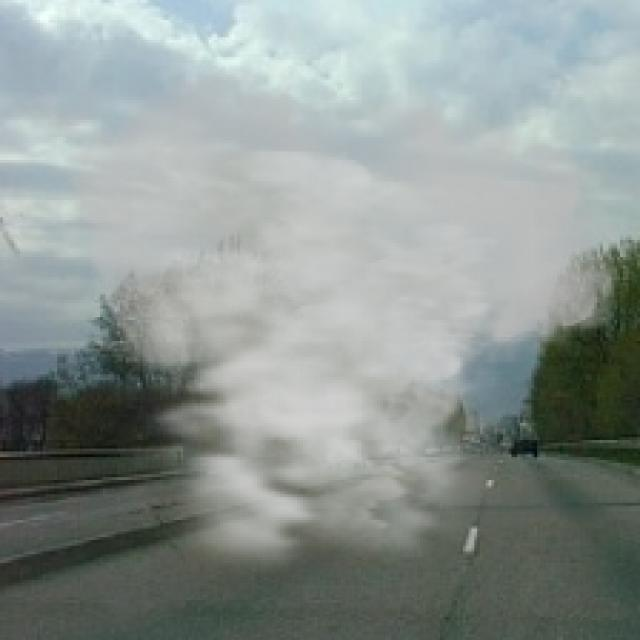Smoke: (60, 62, 626, 594)
